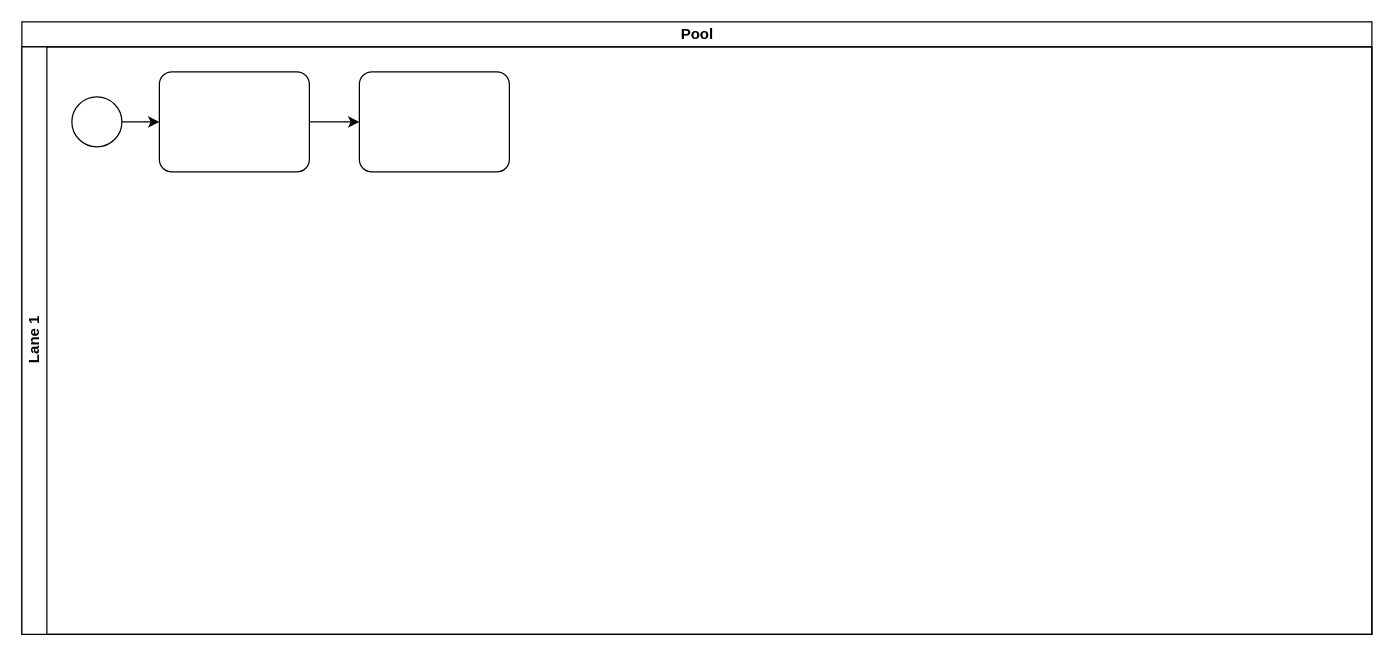
This 1394x656 diagram has some shape labels left out. Each missing label, with the box of its shape:
Imprimir PDF en el modulo EGRL: (158, 71, 309, 172)
Reportar glosa al correo del prestador: (358, 71, 509, 172)
